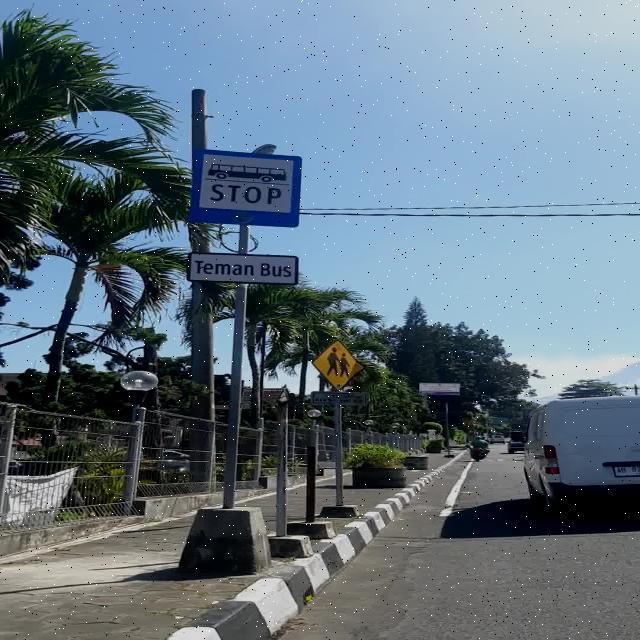Pemberhentian Bus: (189, 148, 303, 228)
